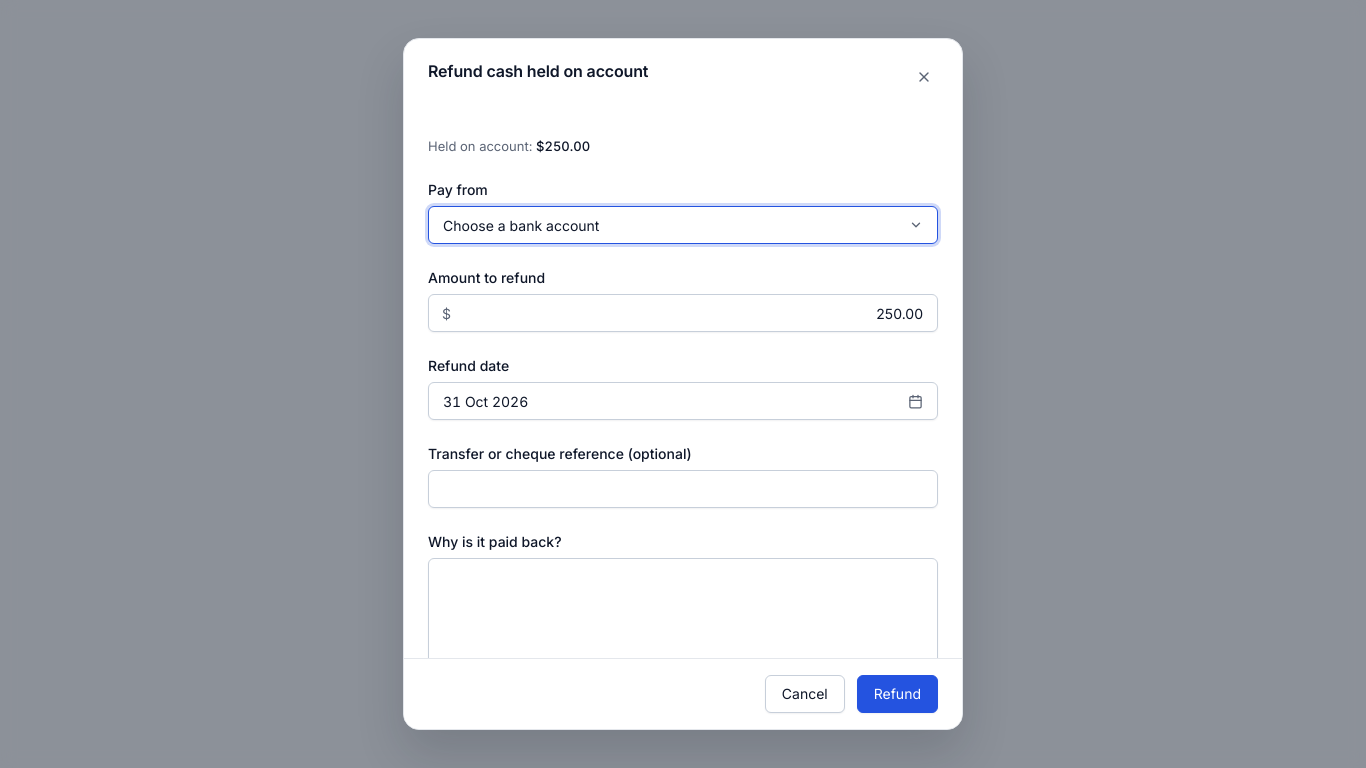
Test: RefundDialog › posts at once up to the payment limit, from a bank that pays
Click the button "Refund" at x=897, y=694, box [857,675,938,713]
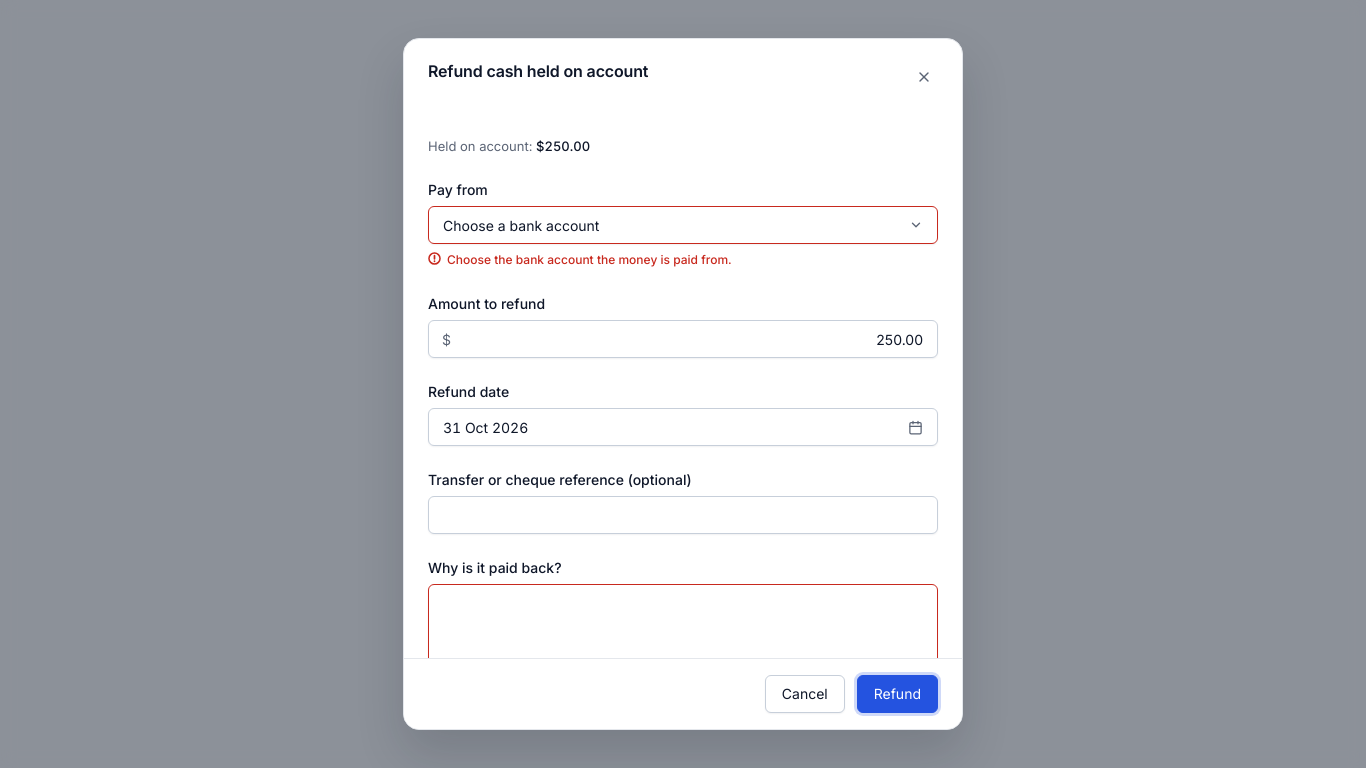
Expected: the text "Choose the bank account the money is paid from." is shown, [428,252,732,267]
